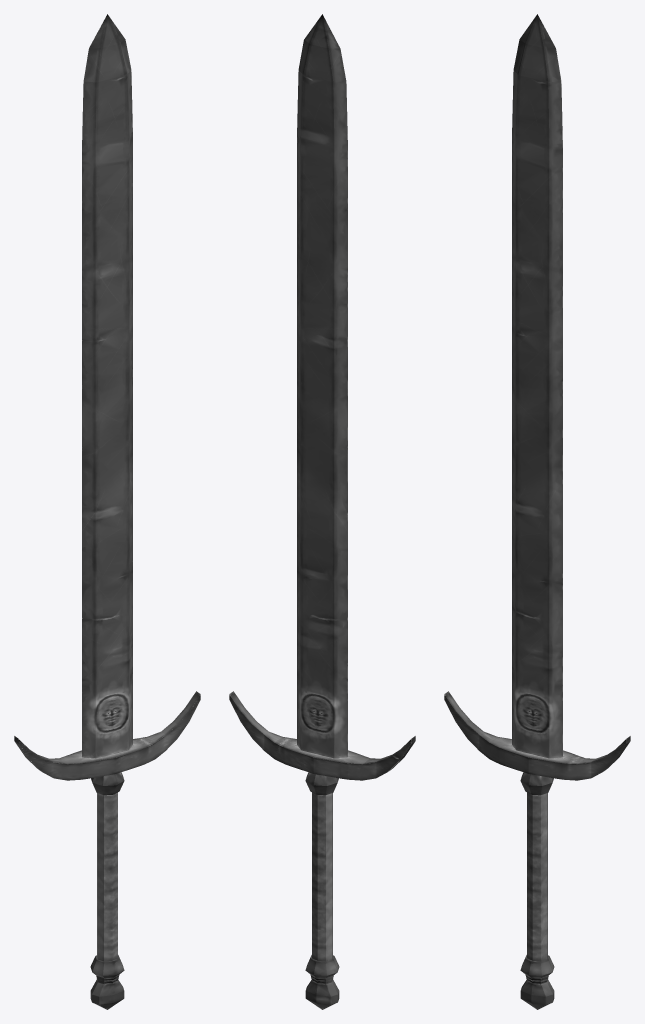
The model's file is Sword.obj.
3 renders of one model, left to right at view 1: azimuth 30°, elevation 25°; view 2: azimuth 150°, elevation 25°; view 3: azimuth 330°, elevation 25°, orthographic.
Parts seen in each view (by area): view 1: LP_Cube.002; view 2: LP_Cube.002; view 3: LP_Cube.002.
Boxes of the visible parts, box(x1,y1,x2,y2) form: LP_Cube.002: box(14, 14, 200, 1009); LP_Cube.002: box(229, 14, 415, 1009); LP_Cube.002: box(444, 14, 630, 1009).
Bounding box in the file's own units: 23.22 × 121 × 3.89.
1 material, 1 textured.
